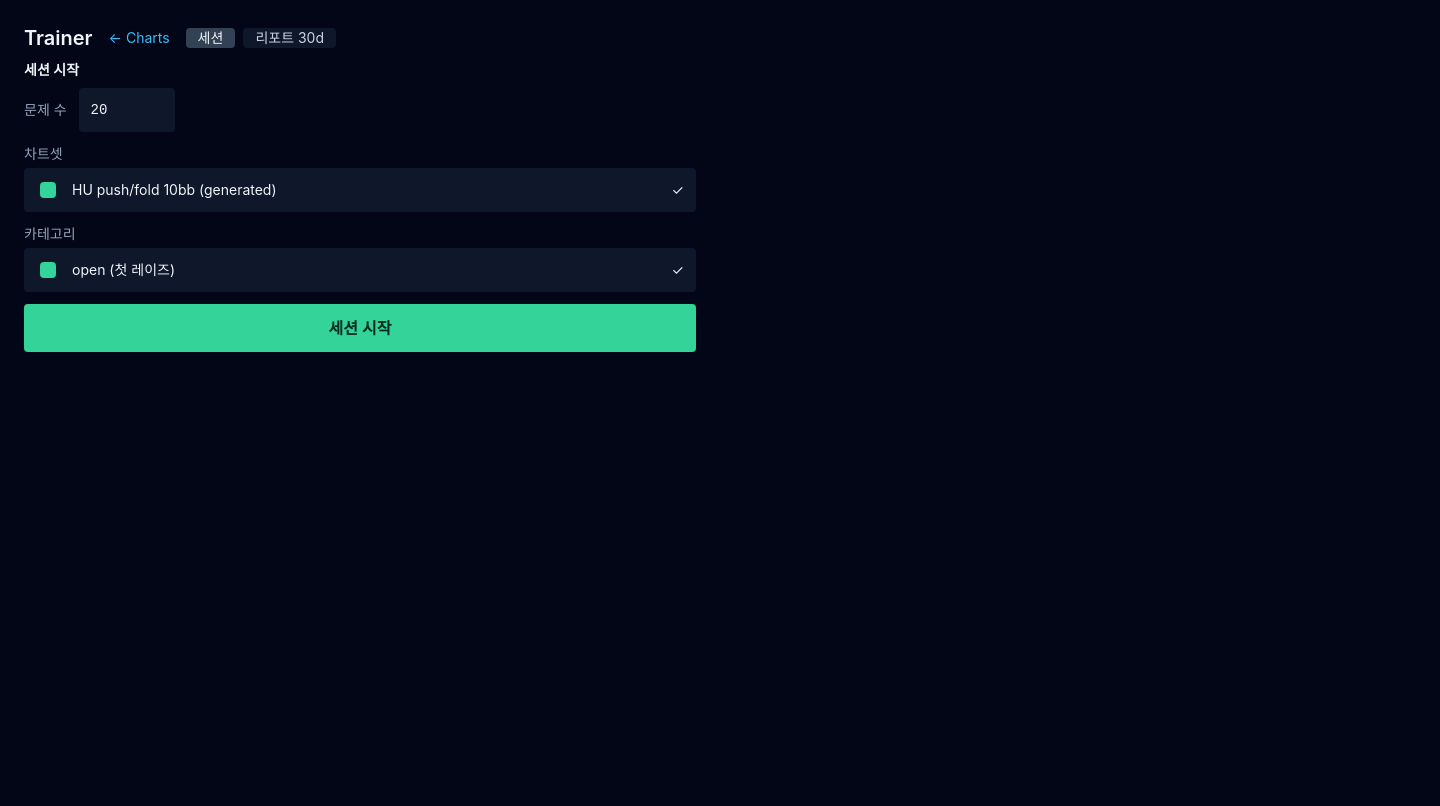
it: P3 0.3 화면에 "정답/오답" 이 없다 (D8) › P3 0.3 답 후 화면에도 없다
Expected: the checkbox with test id "session-cat-open" is shown, [36,258,60,282]
Step 1. Click the button with test id "session-start" → [360, 328], box [24,304,696,352]
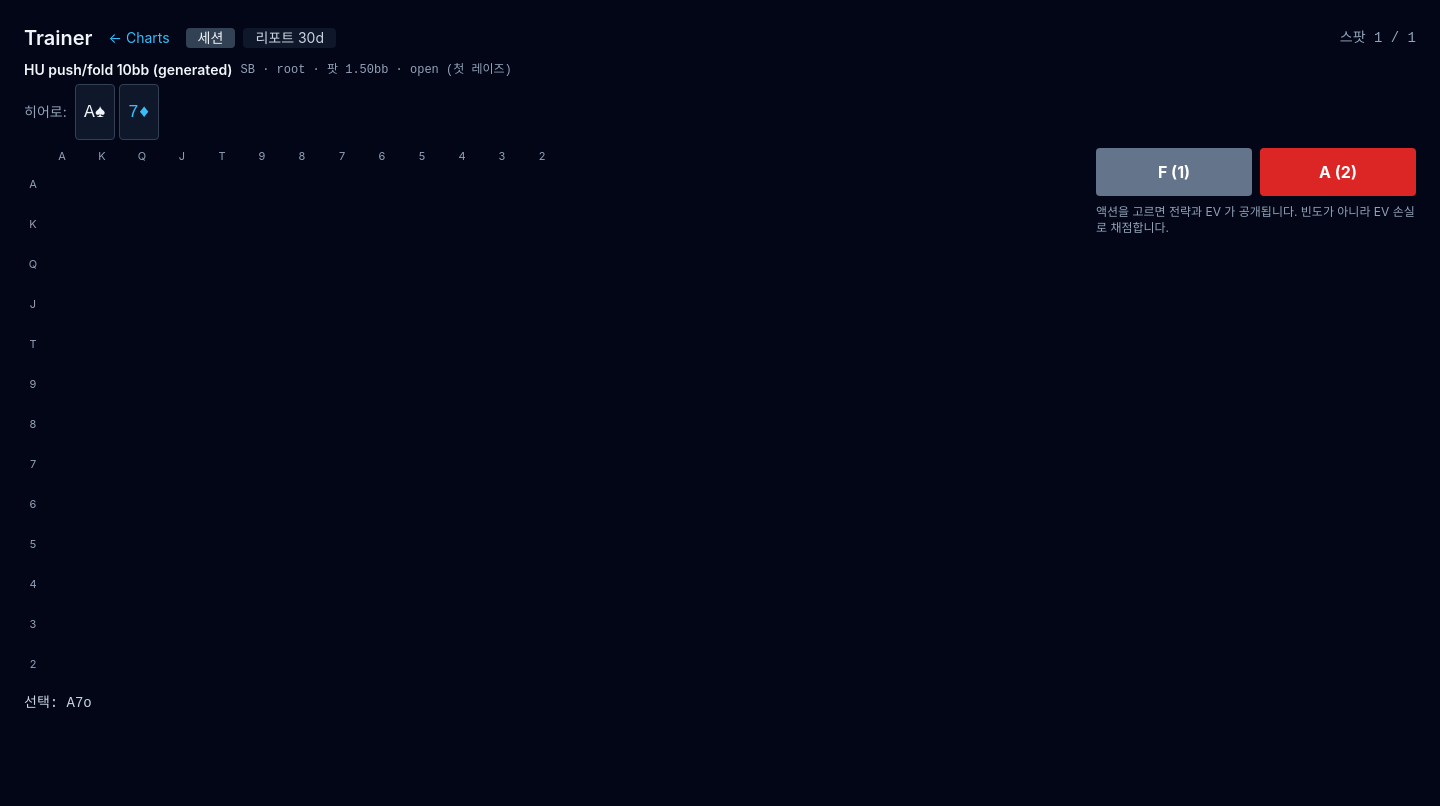
Expected: the element with test id "answer-buttons" is shown, [1096,148,1416,196]
Step 2. Click the button with test id "answer-A" → [1338, 172], box [1260,148,1416,196]
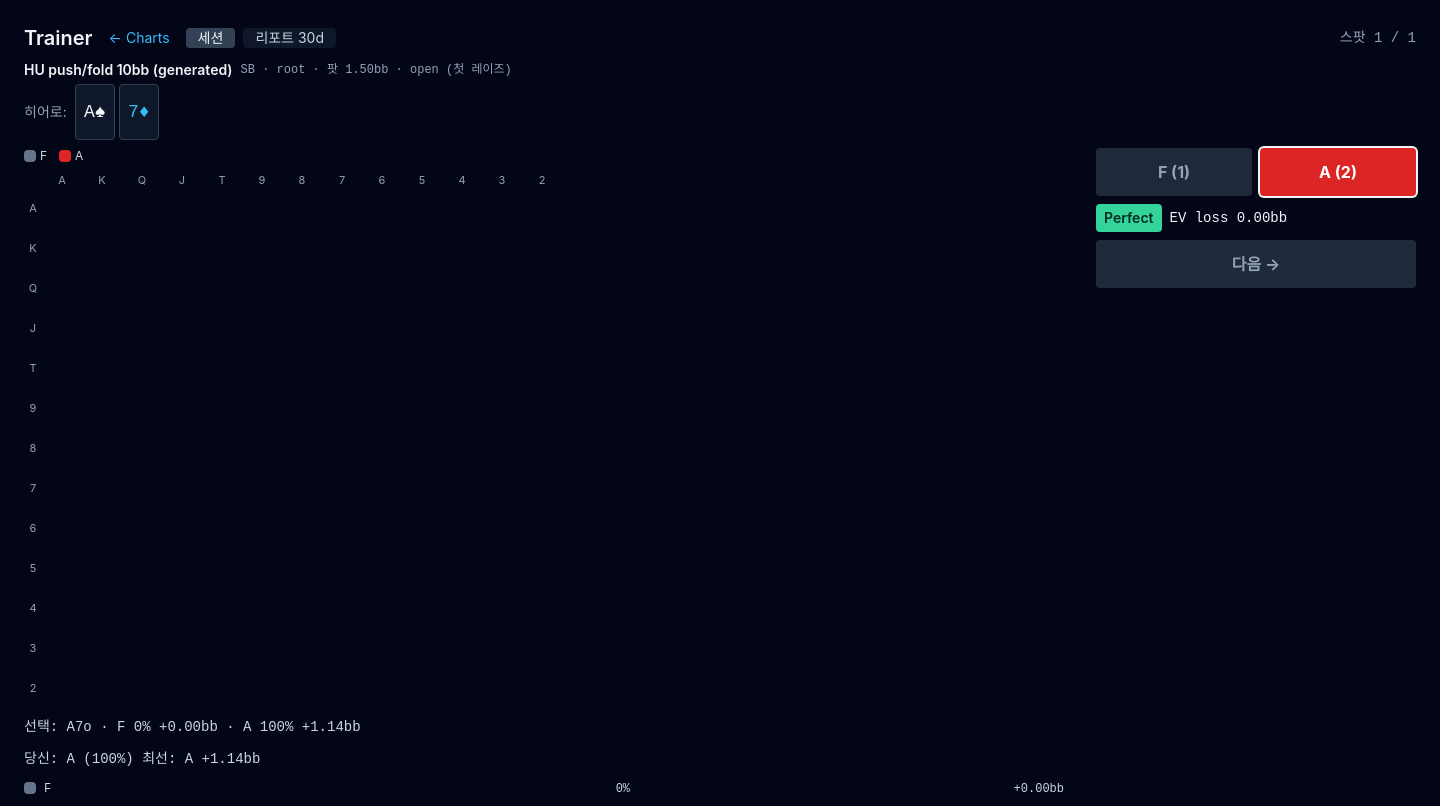
Expected: the element with test id "grade-box" is shown, [1096,204,1416,288]
